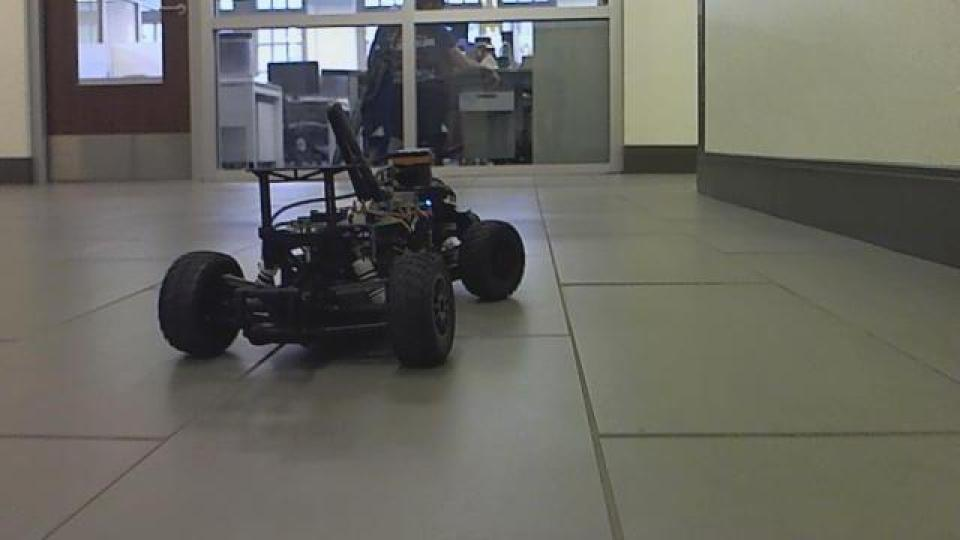car: (153, 99, 528, 371)
